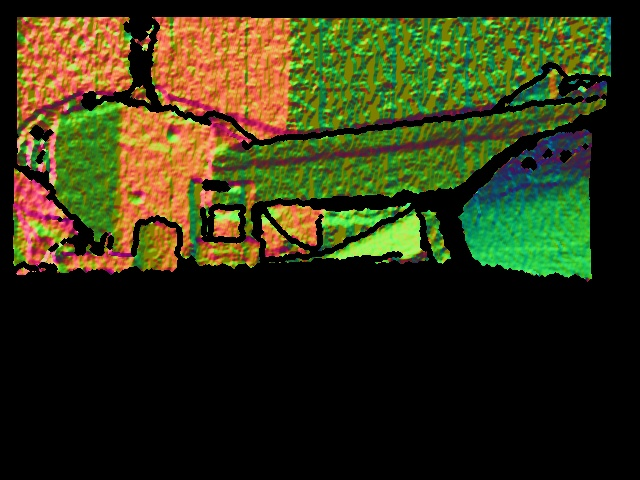station: (187, 179, 264, 271)
